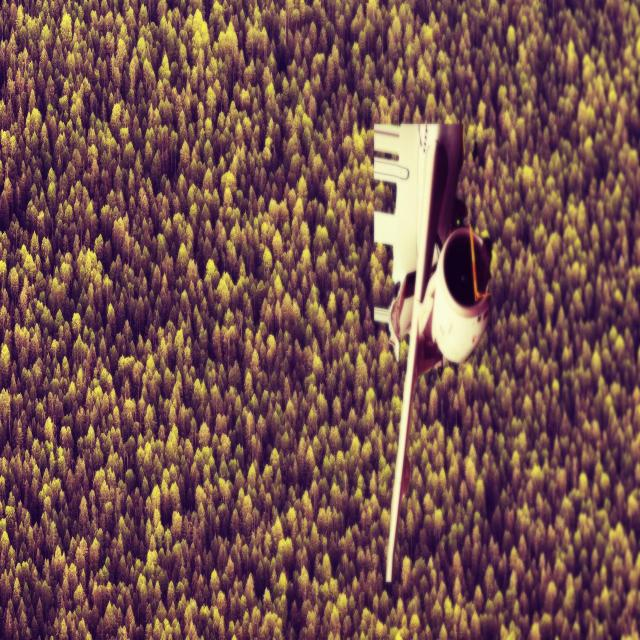airplane: (371, 120, 492, 584)
